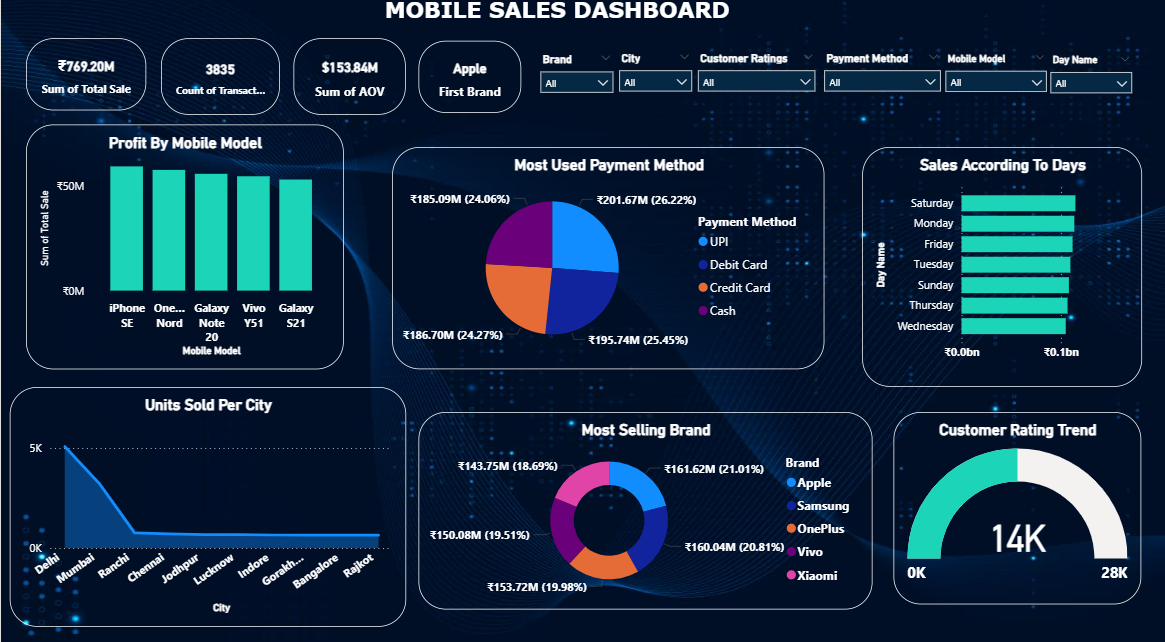

Layout of this report page (visuals, bound fields, positions):
{"tool":"powerbi","page":{"name":"Page 1","canvas":[1280,720],"ordinal":0},"visuals":[{"type":"textbox","box":[9.6,0,1202.1,279.9],"z":0},{"type":"clusteredColumnChart","title":"Profit By Mobile Model ","fields":{"Y":["Sum(Sheet1.Total Sale)"],"Category":["Sheet1.Mobile Model"]},"box":[27.4,145.5,348.5,269],"z":1000},{"type":"pieChart","title":"Most Used Payment Method","fields":{"Category":["Sheet1.Payment Method"],"Y":["Sum(Sheet1.Total Sale)"]},"box":[429.5,170.2,474.8,244.3],"z":2000},{"type":"donutChart","title":"Most Selling Brand","fields":{"Category":["Sheet1.Brand"],"Y":["Sum(Sheet1.Total Sale)"]},"box":[458.3,461.1,498.1,216.8],"z":3000},{"type":"gauge","title":"Customer Rating Trend","fields":{"Y":["Sum(Sheet1.Customer Ratings)"]},"box":[979.8,461.1,271.7,211.3],"z":4000},{"type":"clusteredBarChart","title":"Sales According To Days","fields":{"Category":["Sheet1.Day Name"],"Y":["Sum(Sheet1.Total Sale)"]},"box":[945.5,170.2,307.4,263.5],"z":5000},{"type":"areaChart","title":"Units Sold Per City","fields":{"Category":["Sheet1.City"],"Y":["Sum(Sheet1.Units Sold)"]},"box":[9.6,433.6,435,263.5],"z":6000},{"type":"card","fields":{"Values":["Sum(Sheet1.Total Sale)"]},"box":[27.4,50.8,131.7,79.6],"z":7000},{"type":"card","fields":{"Values":["Min(Sheet1.Brand)"]},"box":[458.3,53.5,112.5,79.6],"z":8000},{"type":"card","fields":{"Values":["Sum(Sheet1.AOV)"]},"box":[321.1,50.8,123.5,83.7],"z":9000},{"type":"card","fields":{"Values":["CountNonNull(Sheet1.Transaction ID)"]},"box":[175.6,50.8,130.4,83.7],"z":10000},{"type":"slicer","fields":{"Values":["Sheet1.Brand"]},"box":[581.8,61.7,100.2,67.2],"z":11000},{"type":"slicer","fields":{"Values":["Sheet1.City"]},"box":[668.3,60.4,100.2,71.4],"z":12000},{"type":"slicer","fields":{"Values":["Sheet1.Mobile Model"]},"box":[1026.4,61.7,131.7,70],"z":13000},{"type":"slicer","fields":{"Values":["Sheet1.Payment Method"]},"box":[893.3,60.4,148.2,70],"z":14000},{"type":"slicer","fields":{"Values":["Sheet1.Customer Ratings"]},"box":[754.7,60.4,149.6,75.5],"z":15000},{"type":"slicer","fields":{"Values":["Sheet1.Day Name"]},"box":[1141.7,63.1,109.8,76.8],"z":16000}]}

Visuals, with their boxes in screenshot pixels (x1, y1, x2, y2), scaled from the page's 1280x720 canvas onto the 1165x642 screenshot:
textbox: BBox(9, 0, 1103, 250)
"Profit By Mobile Model " clusteredColumnChart: BBox(25, 130, 342, 370)
"Most Used Payment Method" pieChart: BBox(391, 152, 823, 370)
"Most Selling Brand" donutChart: BBox(417, 411, 870, 604)
"Customer Rating Trend" gauge: BBox(892, 411, 1139, 600)
"Sales According To Days" clusteredBarChart: BBox(861, 152, 1140, 387)
"Units Sold Per City" areaChart: BBox(9, 387, 405, 622)
card - Sum(Sheet1.Total Sale): BBox(25, 45, 145, 116)
card - Min(Sheet1.Brand): BBox(417, 48, 520, 119)
card - Sum(Sheet1.AOV): BBox(292, 45, 405, 120)
card - CountNonNull(Sheet1.Transaction ID): BBox(160, 45, 279, 120)
slicer - Sheet1.Brand: BBox(530, 55, 621, 115)
slicer - Sheet1.City: BBox(608, 54, 699, 118)
slicer - Sheet1.Mobile Model: BBox(934, 55, 1054, 117)
slicer - Sheet1.Payment Method: BBox(813, 54, 948, 116)
slicer - Sheet1.Customer Ratings: BBox(687, 54, 823, 121)
slicer - Sheet1.Day Name: BBox(1039, 56, 1139, 125)
